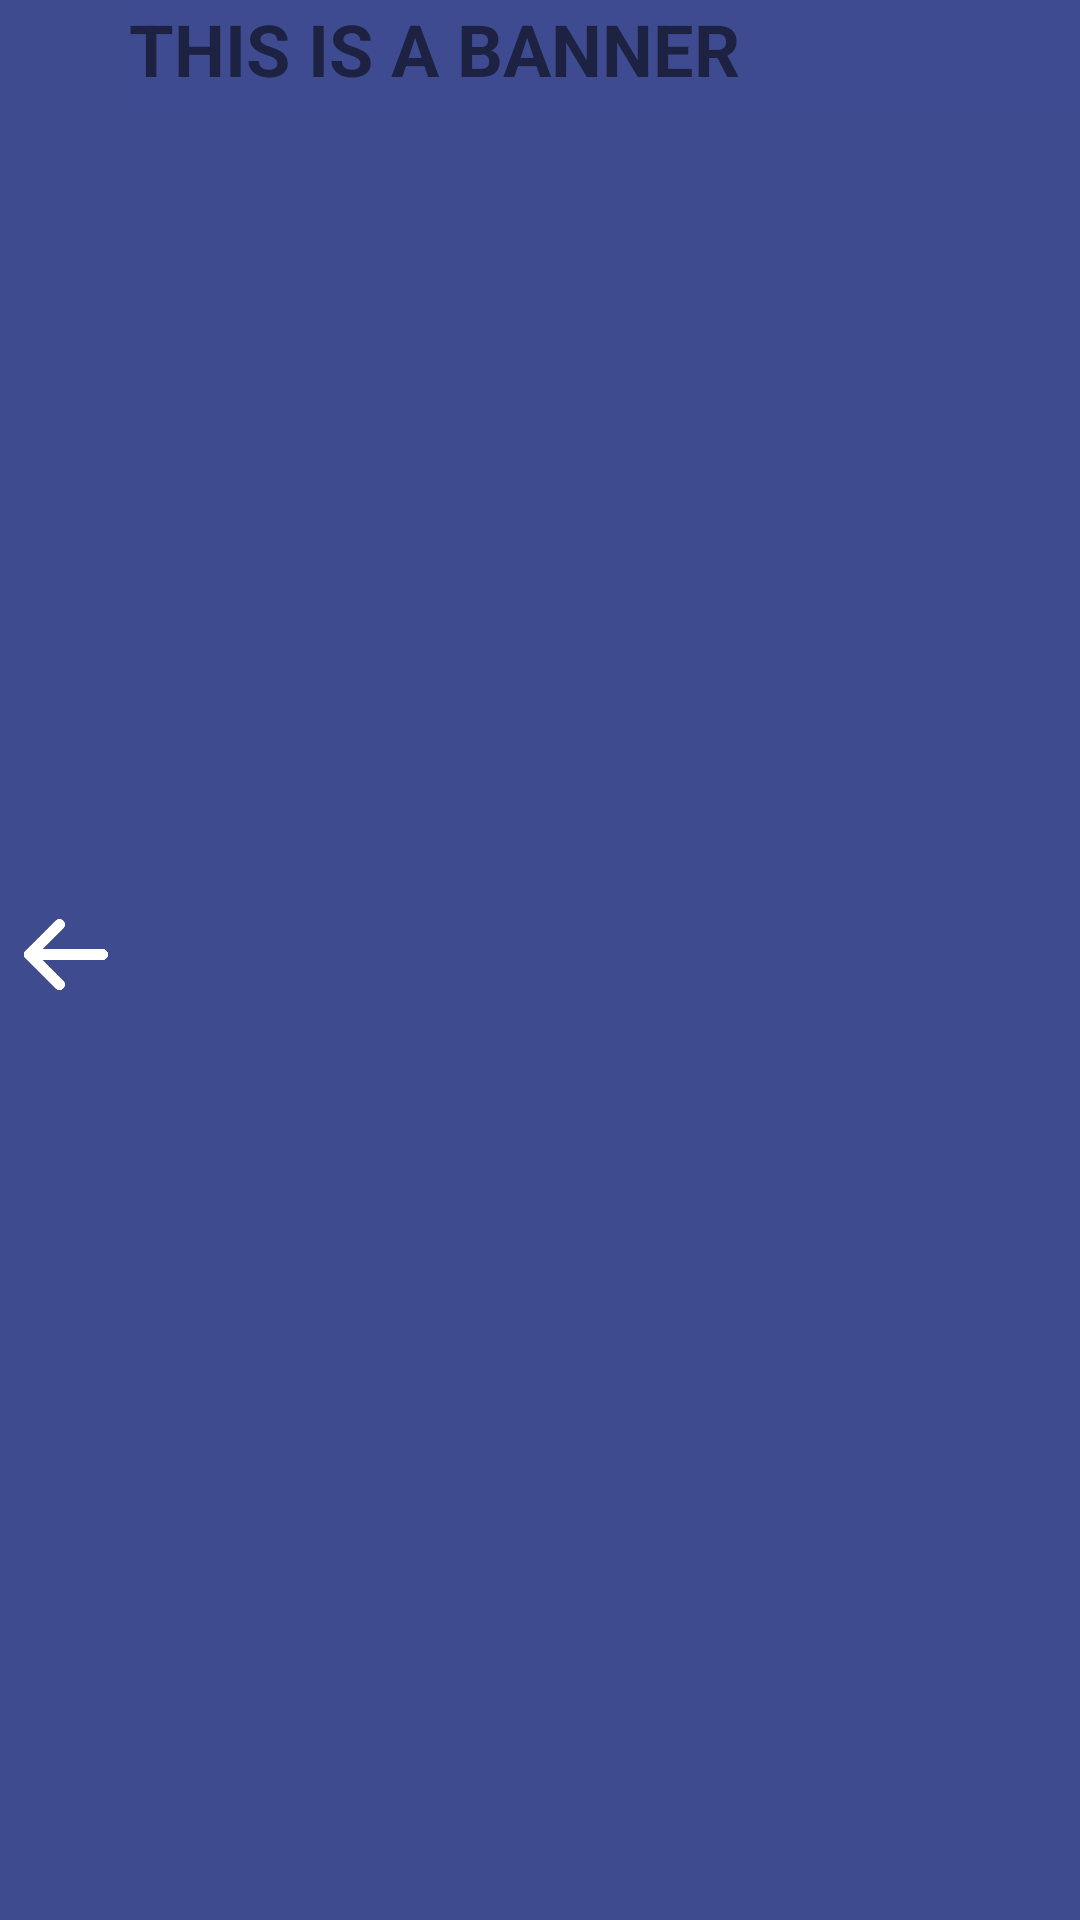

Named icons in this screenshot (1080px x 1920px) and their bounding boxes, (x1, y1, x2, y2):
back: (24, 919, 108, 990)
